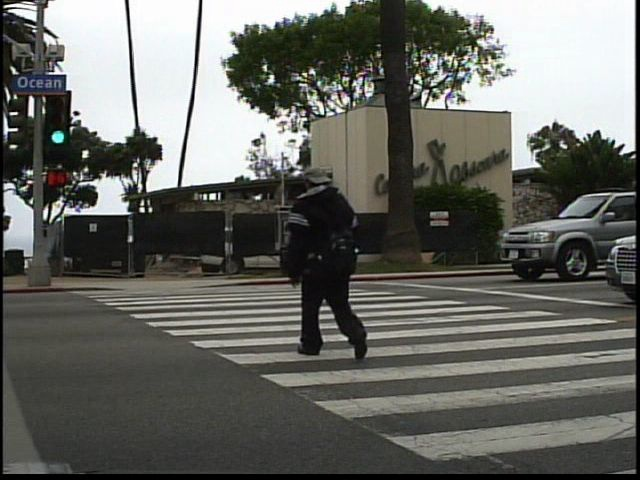person: (277, 155, 381, 369)
